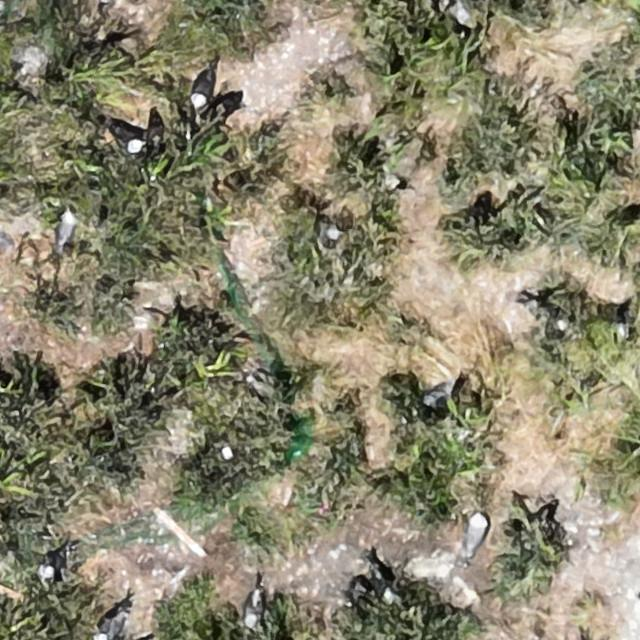umineko: (42, 547, 75, 583), (466, 512, 488, 552), (99, 610, 129, 639), (112, 124, 144, 151), (192, 70, 213, 106), (57, 212, 75, 247), (246, 592, 261, 626), (323, 222, 341, 241)
